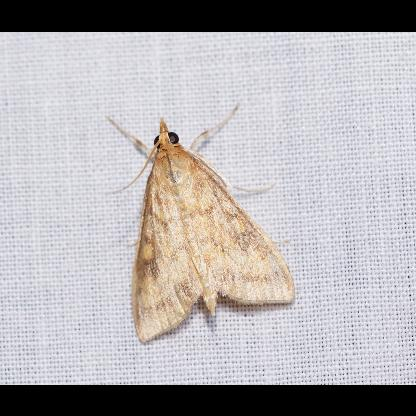Asian Corn Borer Moth: (104, 100, 298, 346)
